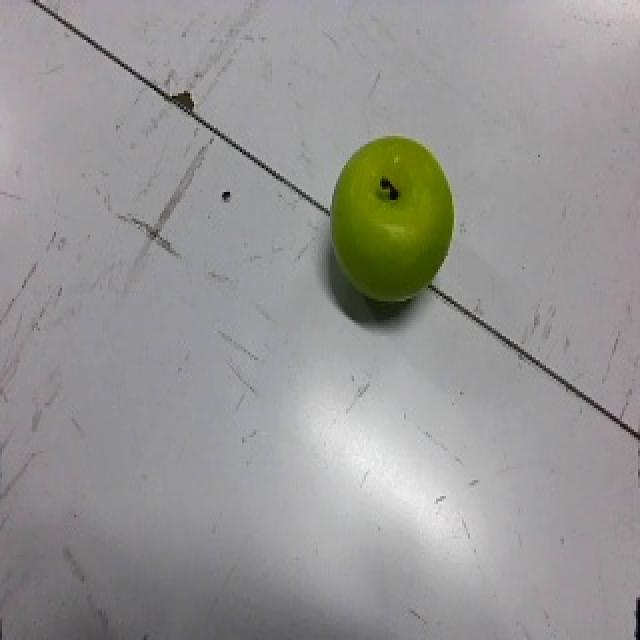apple: (326, 134, 456, 323)
